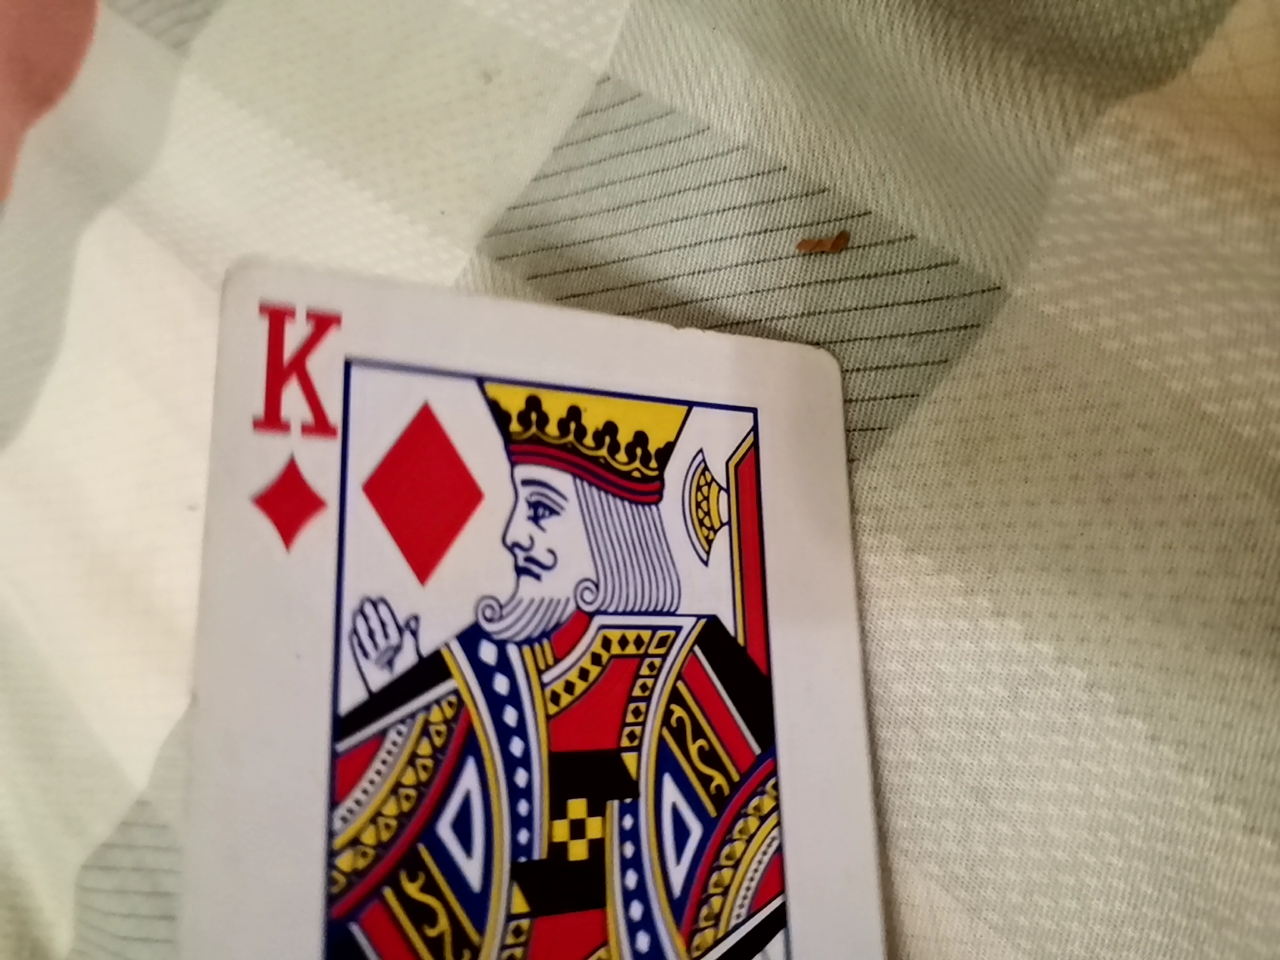fk k: (171, 281, 927, 960)
